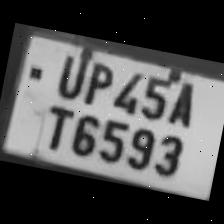3: (150, 126, 188, 178)
4: (107, 62, 146, 116)
5: (134, 68, 174, 122), (93, 112, 131, 164)
6: (64, 108, 102, 160)
9: (122, 120, 158, 172)
A: (165, 74, 202, 128)
P: (79, 55, 118, 109)
T: (34, 98, 77, 153)
U: (50, 46, 90, 100)
